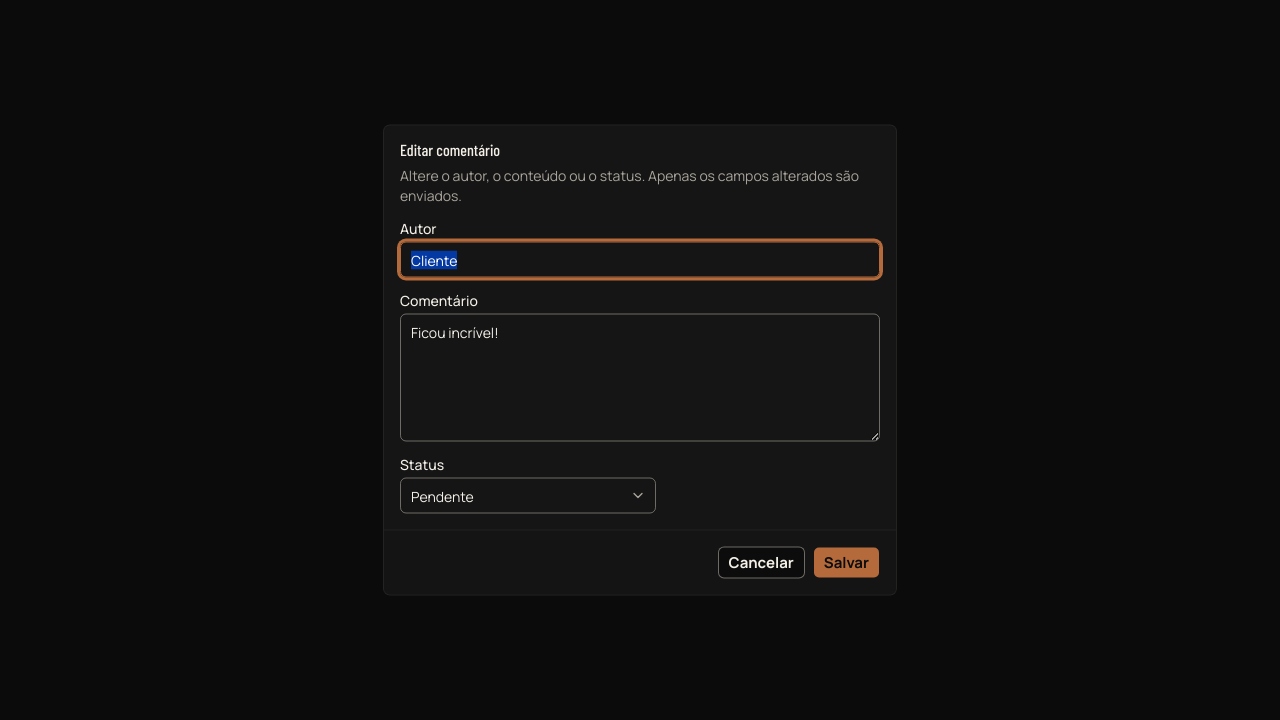
EditCommentDialog › 400: exibe o erro inline e mantém o Salvar
Select "Aprovado" in the dropdown labelled "Status". click: (528, 496)
box: [400,478,656,514]
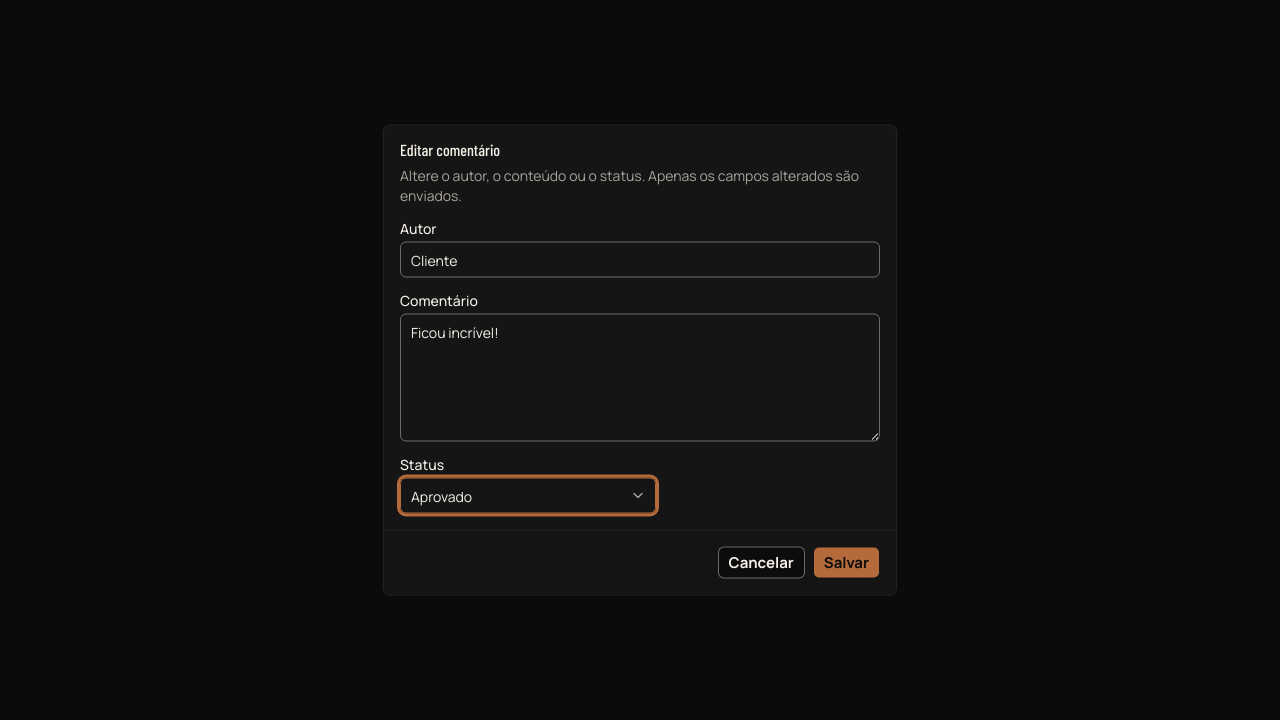
Click the button "Salvar". click: (846, 562)
box: [813,546,880,578]
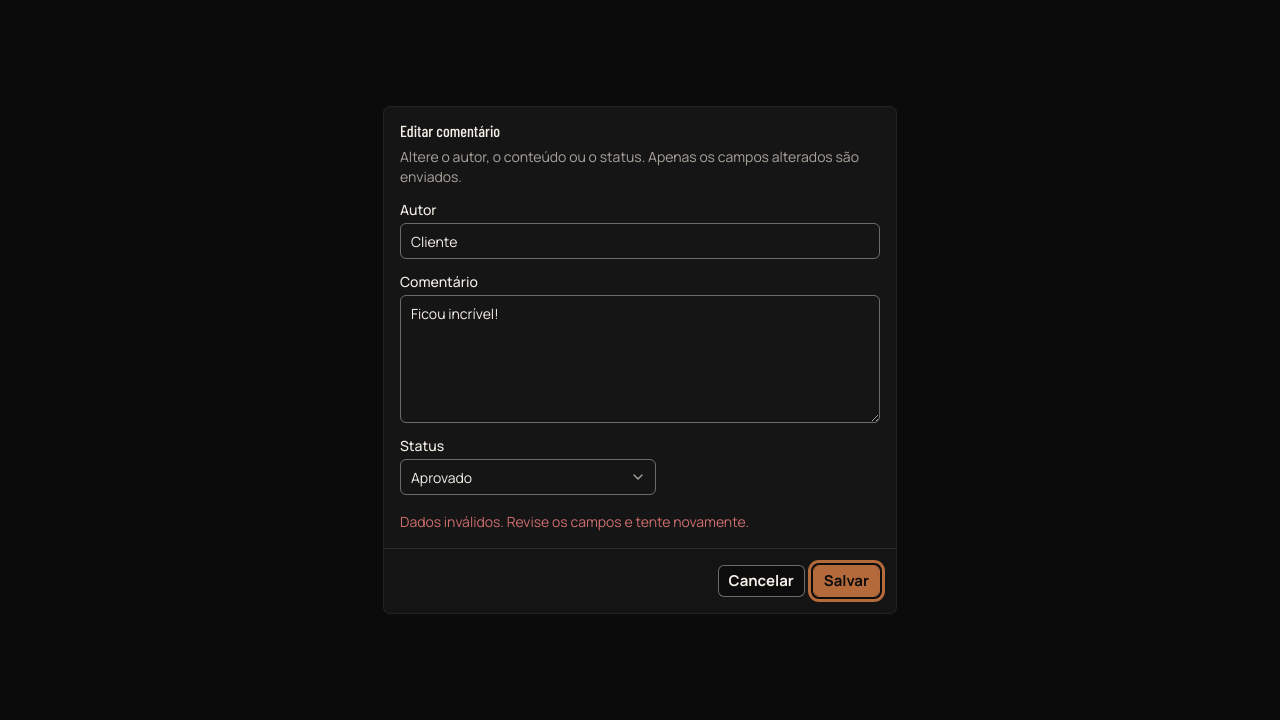
Expected: the button "Salvar" is enabled, [813,565,880,597]
Now the message reads "Dados inválidos. Revise os campos e tente novamente.", box [400,512,749,531]
